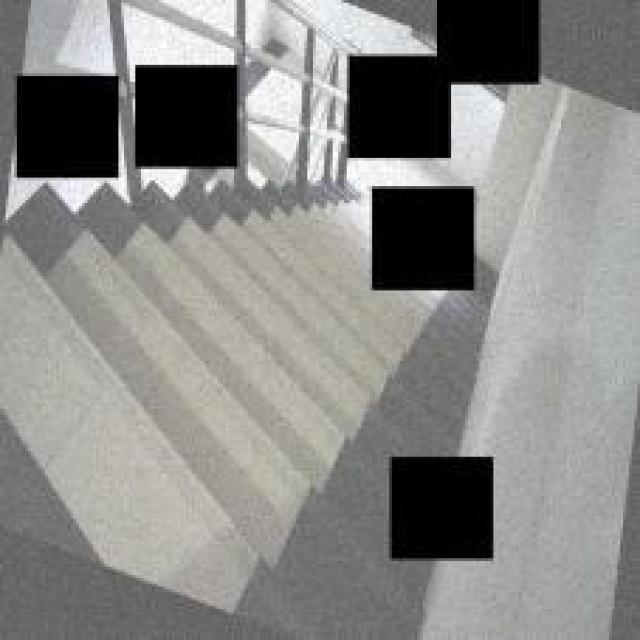downstair: (32, 221, 359, 562)
